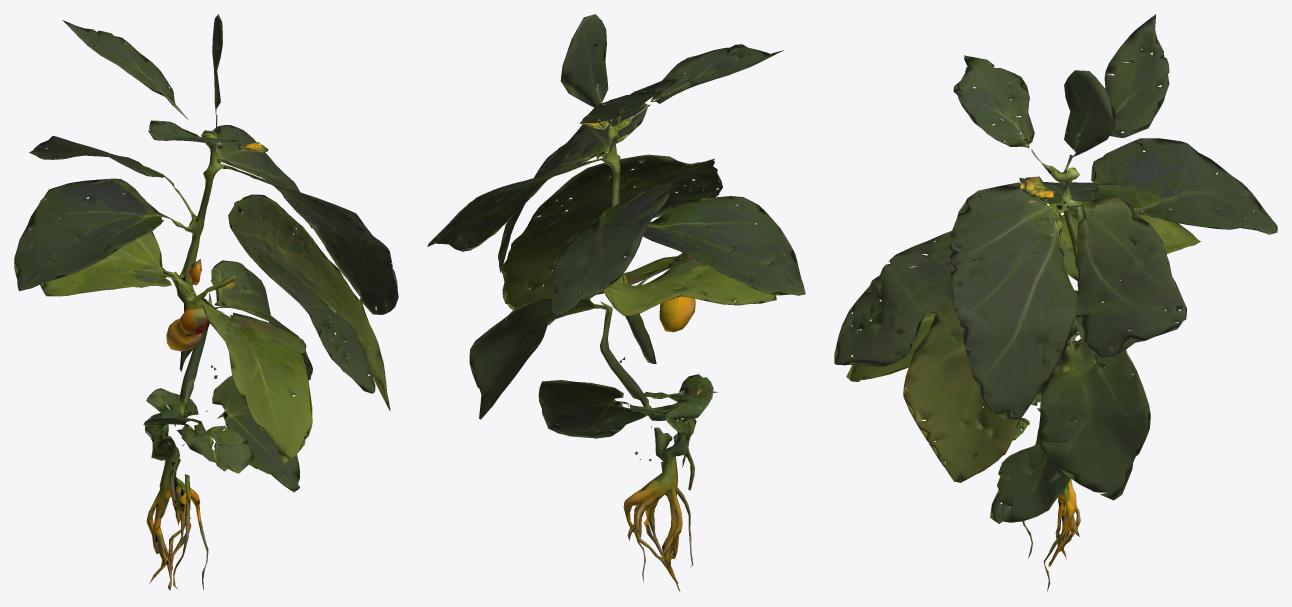
The model's file is ashwagandha.glb.
The picture shows the model from 3 angles, left to right: view 1: azimuth 30°, elevation 25°; view 2: azimuth 150°, elevation 25°; view 3: azimuth 270°, elevation 25°; orthographic projection. The views are drawn at different scales.
Bounding box in the file's own units: 1.24 × 1.99 × 1.48.
1 material, 1 textured.
